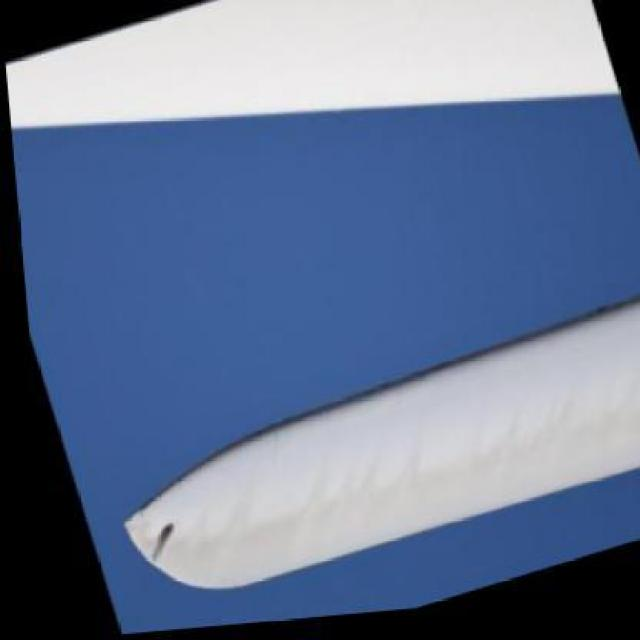Burn Mark: (132, 522, 172, 567)
